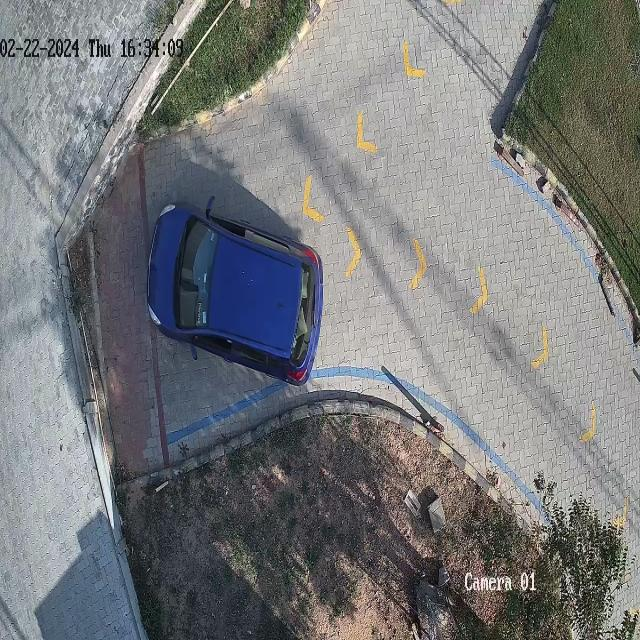car: (146, 204, 322, 383)
